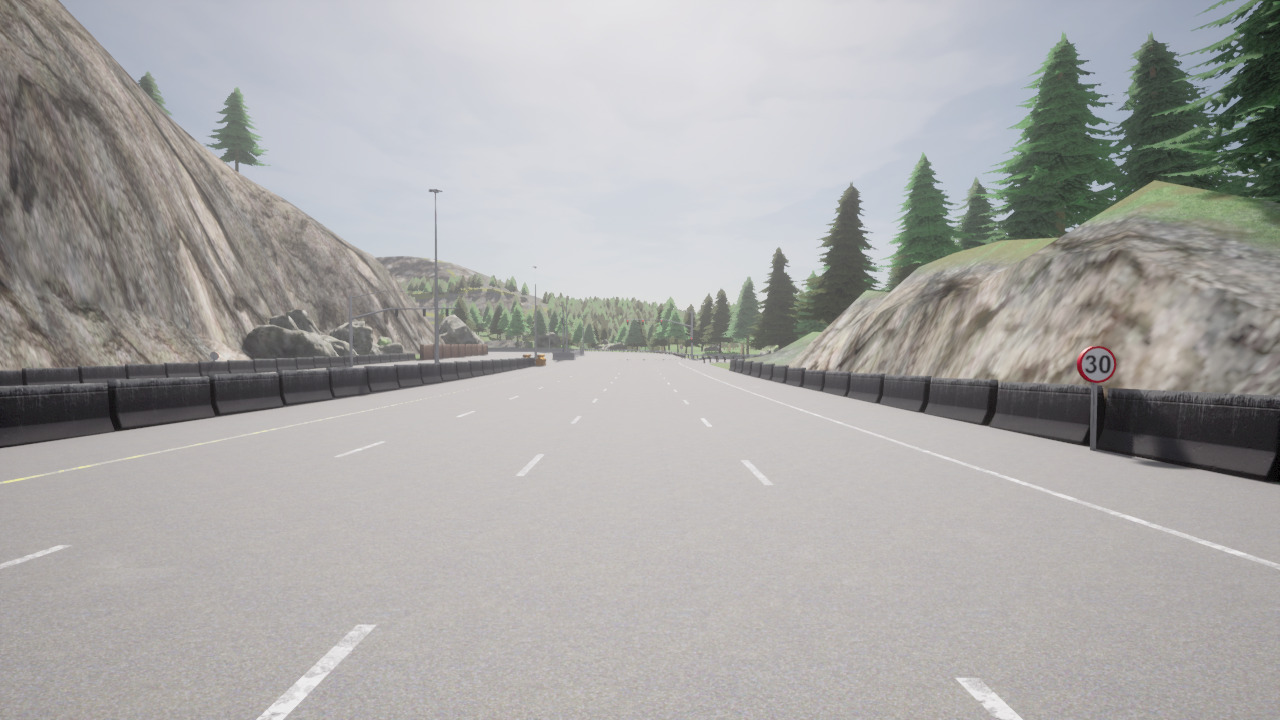sl30: (1075, 344, 1118, 383)
